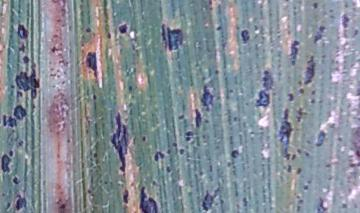tarspot: (110, 111, 131, 178), (14, 61, 44, 100), (158, 22, 185, 52), (254, 68, 274, 108), (278, 106, 292, 162), (200, 181, 221, 212), (138, 186, 157, 213), (84, 50, 100, 79), (302, 54, 316, 87), (200, 84, 214, 114), (287, 39, 301, 67), (312, 24, 326, 45), (12, 104, 28, 122), (15, 23, 31, 40), (14, 193, 28, 212), (1, 152, 13, 173), (294, 104, 306, 124), (314, 130, 326, 149), (193, 107, 202, 131), (239, 28, 251, 45), (315, 196, 327, 213), (121, 187, 131, 205), (7, 114, 17, 130), (341, 12, 349, 32), (117, 22, 130, 34), (154, 150, 165, 164), (183, 131, 194, 144), (13, 90, 23, 103), (349, 28, 360, 39), (16, 41, 26, 52), (1, 113, 8, 128), (286, 91, 294, 104), (230, 149, 239, 160), (11, 176, 20, 186), (294, 165, 302, 176), (207, 163, 215, 174), (163, 166, 172, 175), (202, 117, 211, 126), (21, 54, 29, 64), (335, 134, 343, 144), (295, 203, 303, 213), (241, 196, 248, 207), (139, 134, 147, 143), (177, 147, 185, 156), (176, 113, 185, 121), (91, 151, 100, 159), (297, 86, 305, 95), (286, 163, 292, 175), (339, 202, 348, 210), (301, 183, 310, 191), (326, 174, 334, 183), (354, 148, 360, 159), (50, 44, 56, 55), (84, 26, 92, 34), (303, 150, 311, 158), (294, 147, 302, 155), (327, 13, 335, 21), (105, 30, 112, 39), (215, 24, 222, 33), (127, 84, 134, 93), (291, 153, 297, 163), (8, 149, 15, 157), (324, 161, 331, 169), (65, 137, 71, 146), (91, 93, 98, 100), (312, 1, 318, 9), (198, 170, 204, 178), (170, 141, 177, 147), (213, 68, 219, 75), (309, 97, 315, 104), (297, 198, 303, 205), (227, 88, 234, 94), (297, 78, 302, 86), (310, 89, 316, 95), (232, 115, 237, 122), (327, 8, 334, 13), (206, 1, 213, 6), (207, 7, 214, 12)
